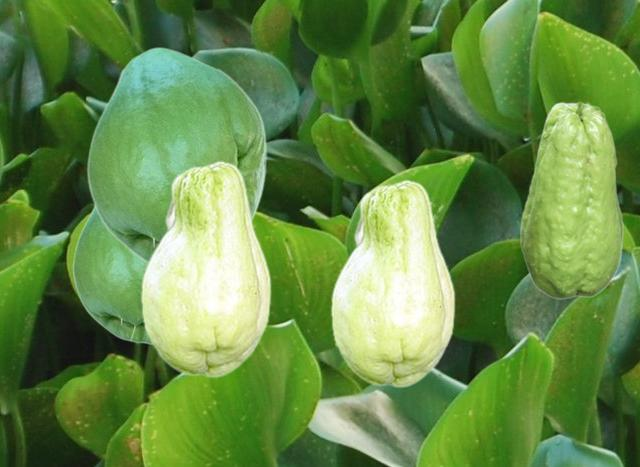sayote: (86, 47, 266, 263), (140, 160, 270, 377), (330, 179, 454, 387), (519, 101, 623, 299), (72, 206, 149, 344)
